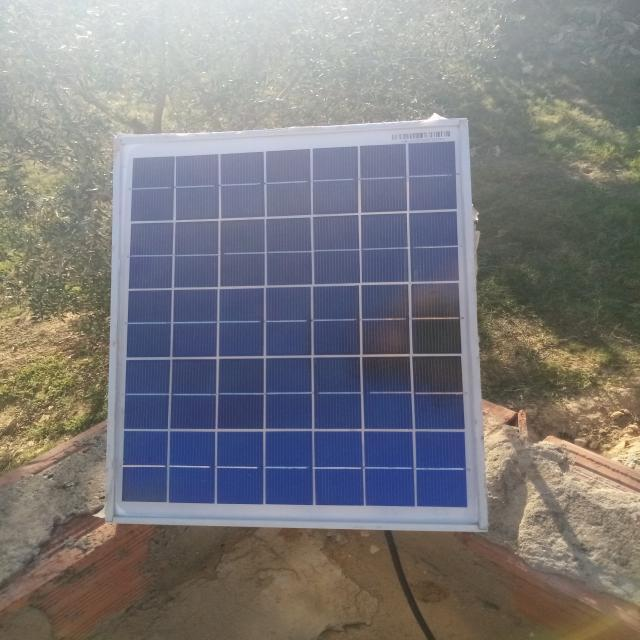no faulty: (108, 119, 487, 529)
